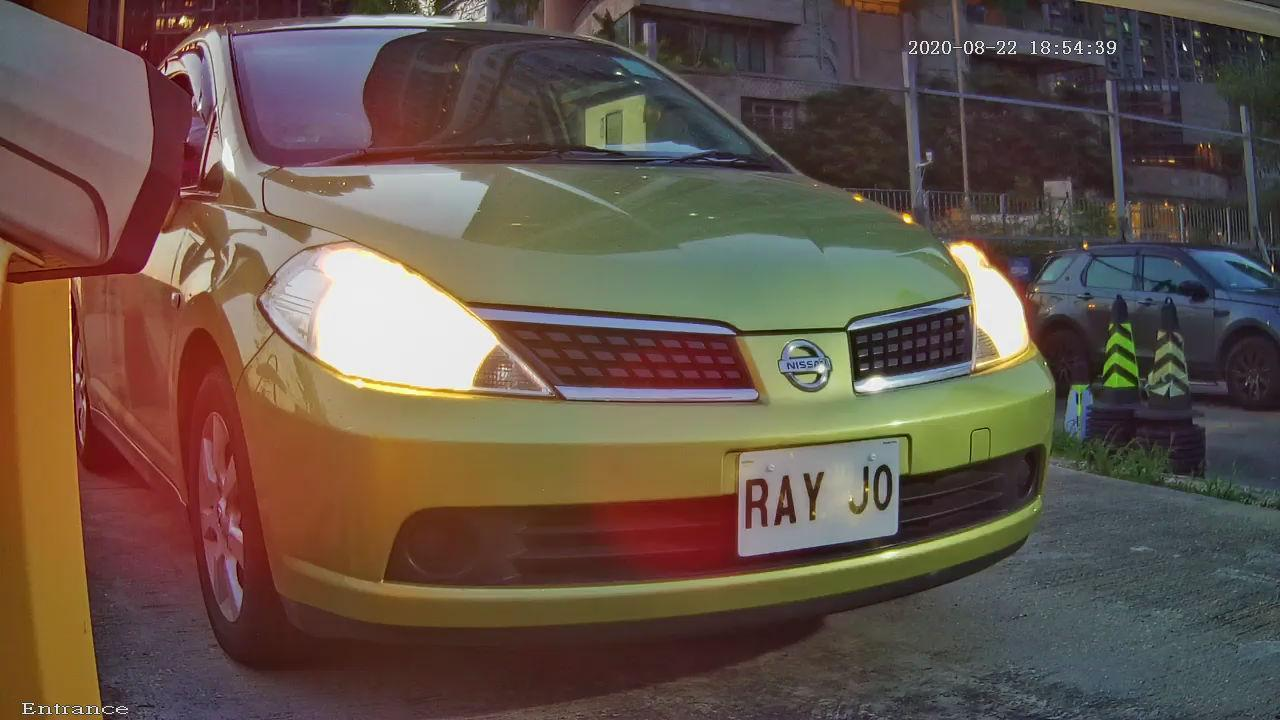Car: (29, 4, 1189, 704)
License Plate: (688, 406, 962, 581)
